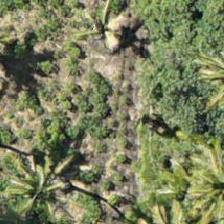coconut_tree: (0, 139, 86, 223), (60, 0, 150, 74)
